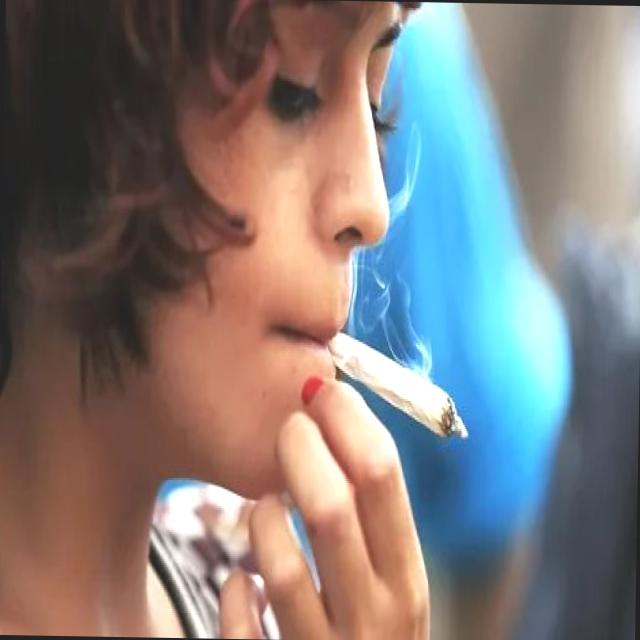cigarette: (319, 320, 472, 454)
